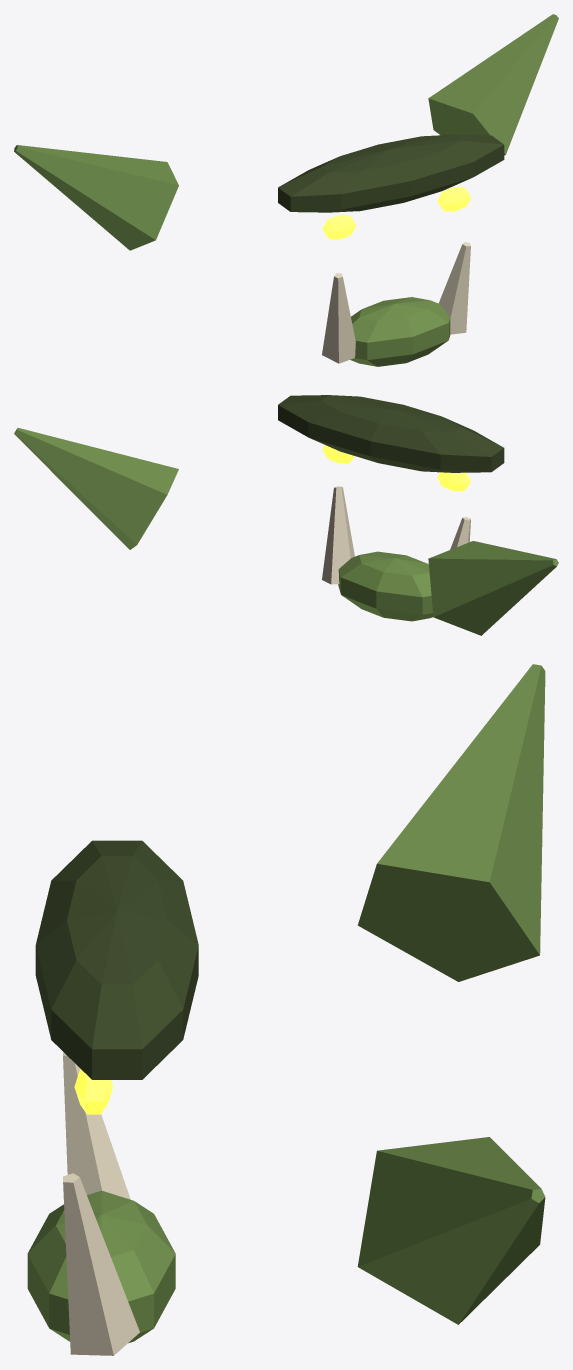
Rendered from orc_face.glb.
The picture shows the model from 3 angles, top to bottom: view 1: azimuth 30°, elevation 25°; view 2: azimuth 150°, elevation 25°; view 3: azimuth 270°, elevation 25°; orthographic projection. The views are drawn at different scales.
Parts seen in each view (by area): view 1: orc_face; view 2: orc_face; view 3: orc_face.
Part boxes in pixels (x1,y1,x2,y2): orc_face: (14,14,558,366); orc_face: (14,395,558,635); orc_face: (27,664,545,1355).
Size of the model in its own units: 1.61 by 0.59 by 0.6645.
